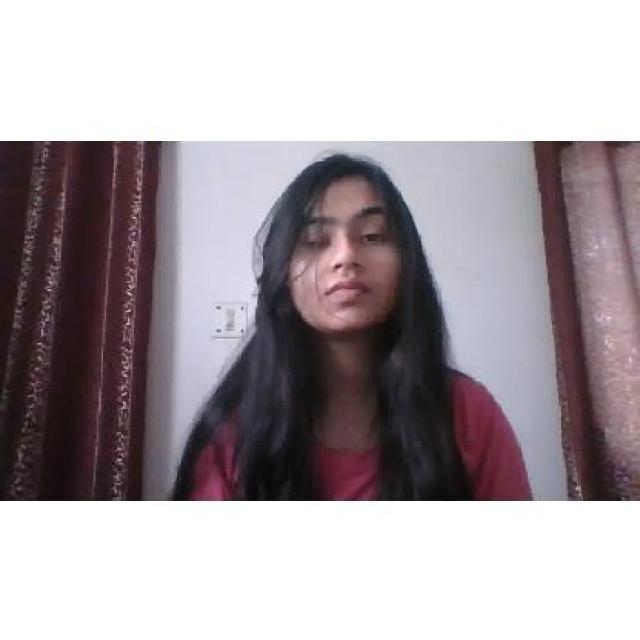attentif: (287, 152, 402, 328)
